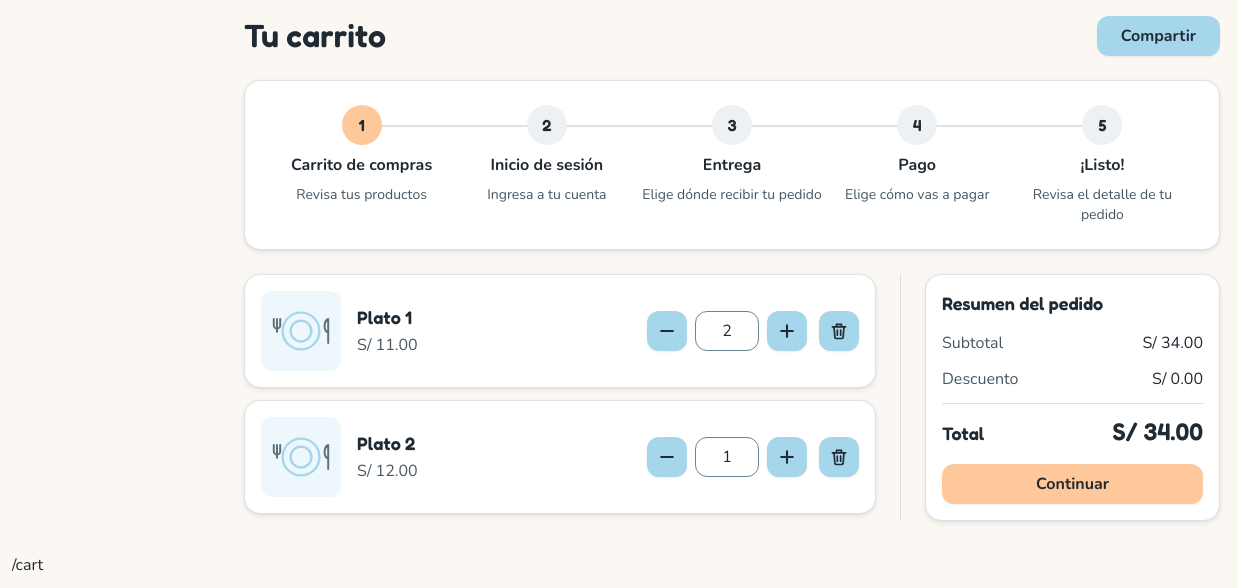
Test case: CartPage › editar cantidades › aplica la cantidad escrita y la recorta al stock
The image size is (1238, 588).
Replace the text in the field named "Cantidad de Plato 1" with "50". click: (727, 331)
box: [695,311,759,351]
Then press Enter
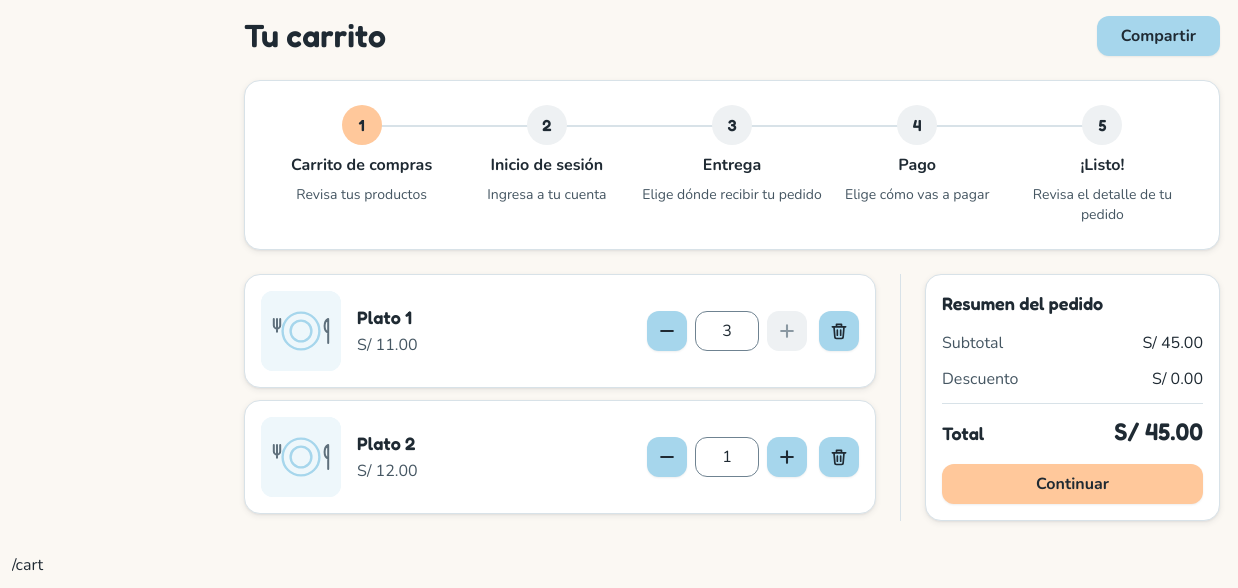
Now the field named "Cantidad de Plato 1" holds "3", box [695,311,759,351]
